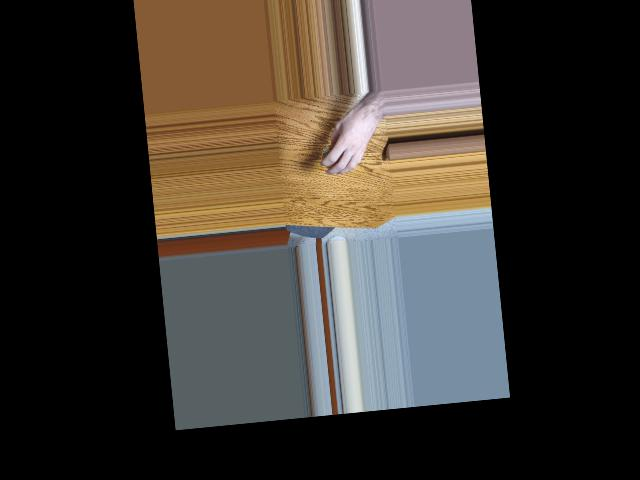onion: (320, 143, 347, 170)
